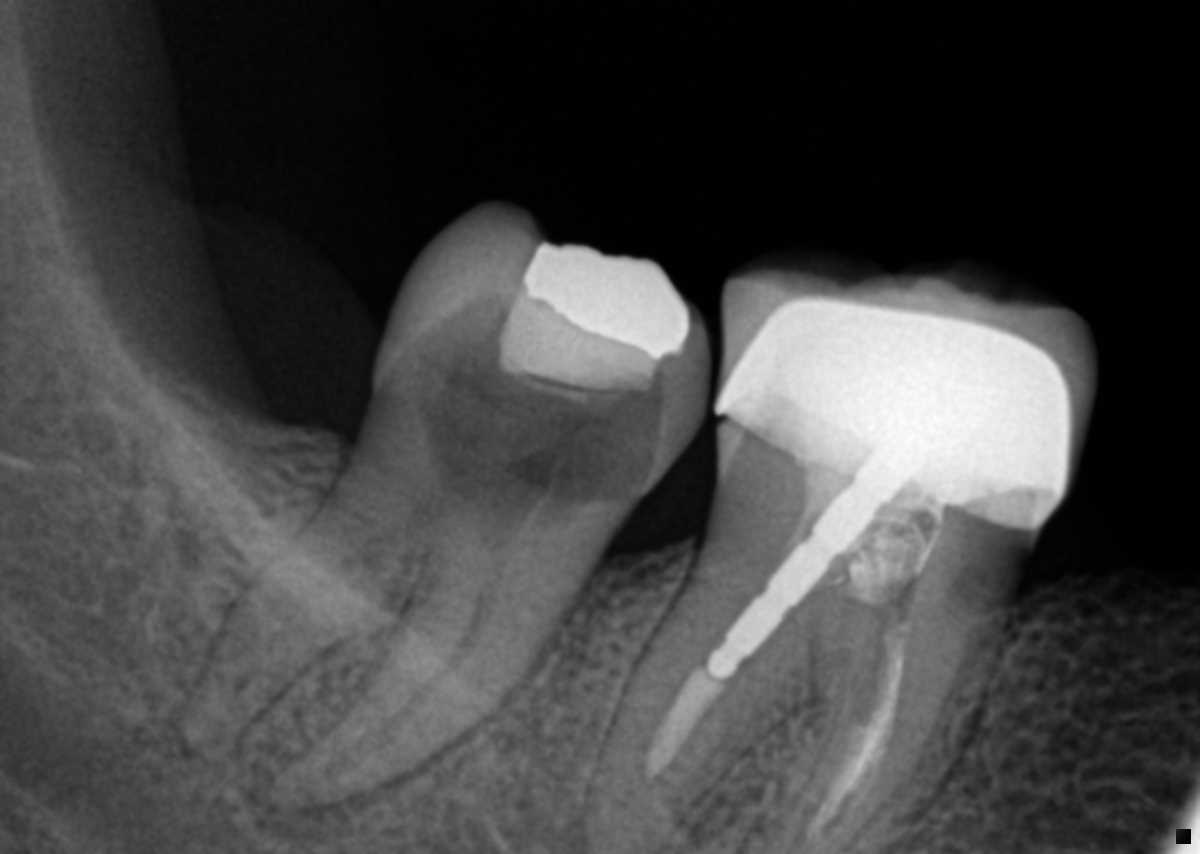Apical Lesion: (242, 727, 375, 845)
Distal Canal: (275, 522, 400, 640)
Distal Root: (588, 537, 827, 853), (184, 449, 417, 758)
Mesial Canal: (280, 563, 500, 795)
Mesial Root: (274, 556, 579, 809), (745, 603, 1010, 854)
Root Canal Filling: (812, 634, 904, 843), (641, 668, 728, 782)
decay: (419, 297, 668, 513)
